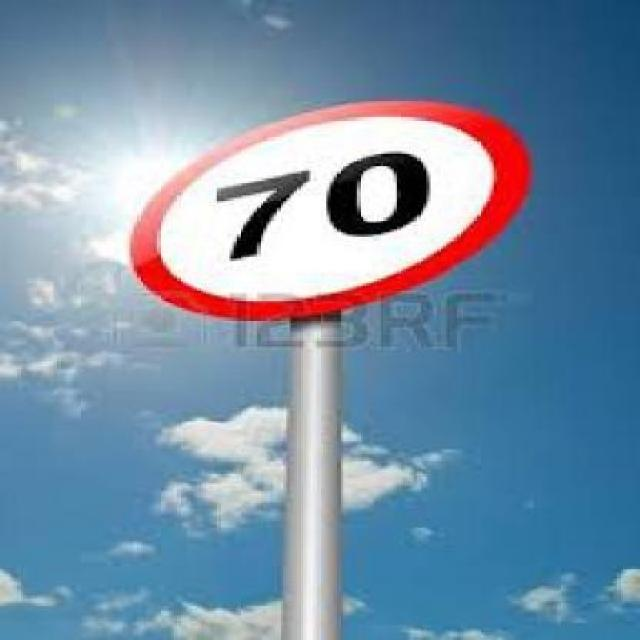forb_speed_over_70: (150, 106, 519, 320)
